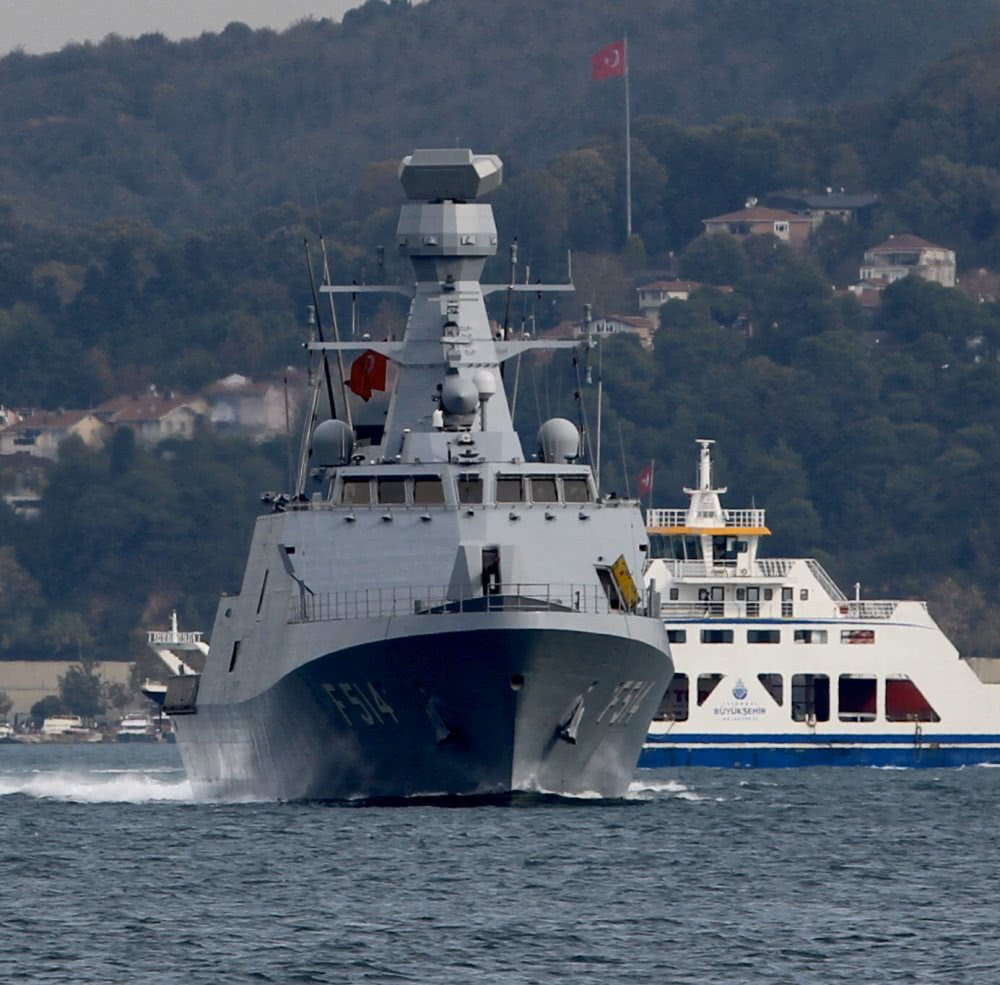warship: (160, 125, 684, 823)
